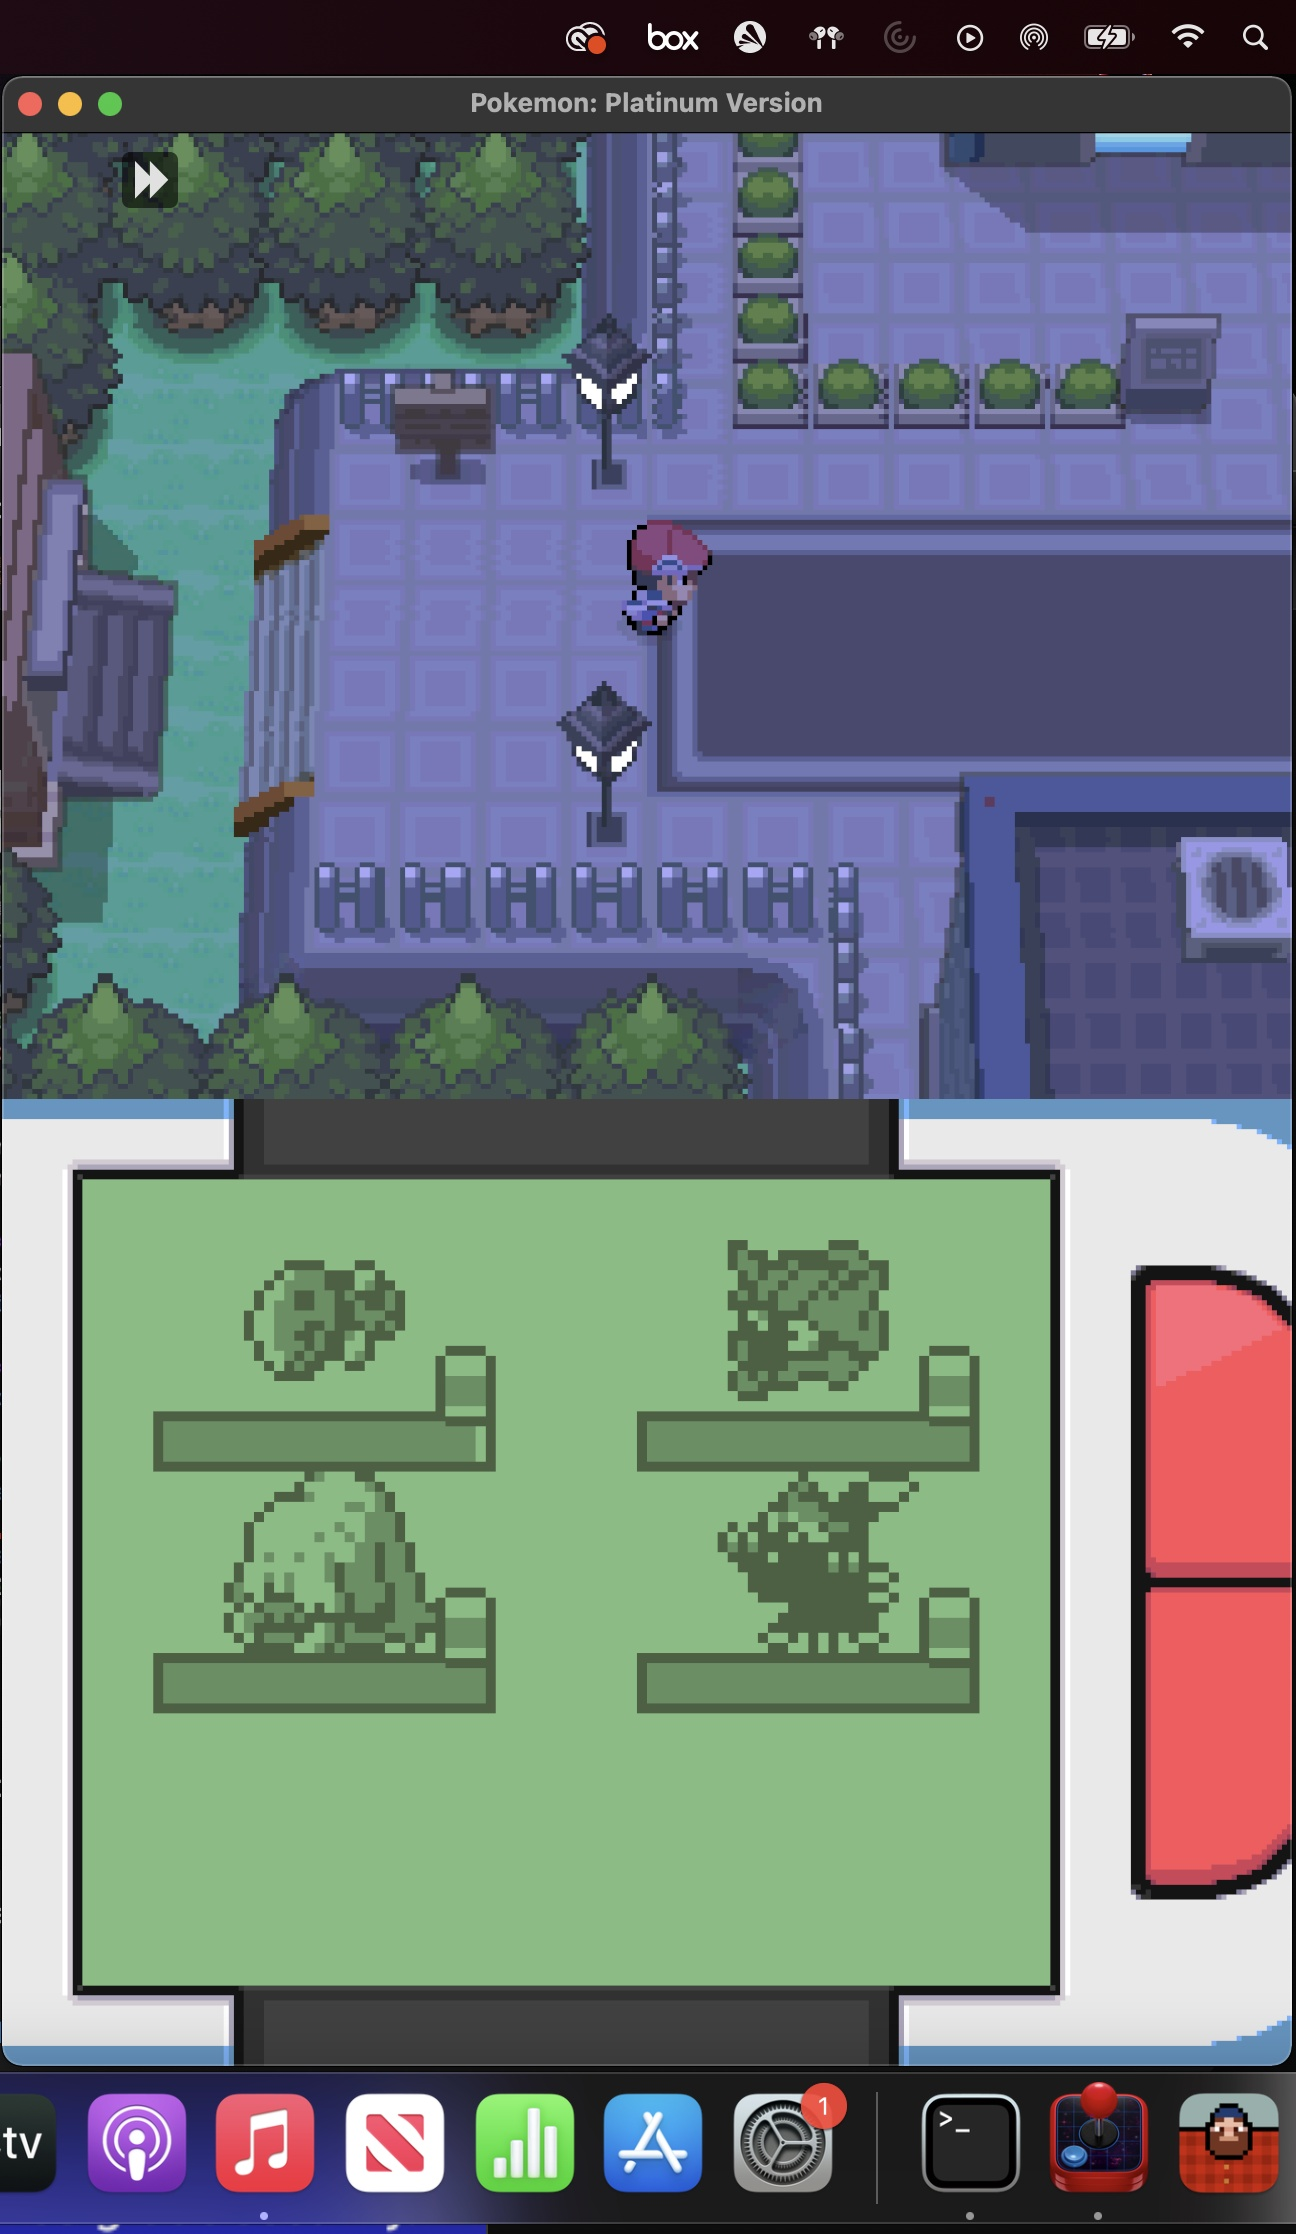player: (610, 496, 719, 653)
turn right: (372, 328, 657, 507)
